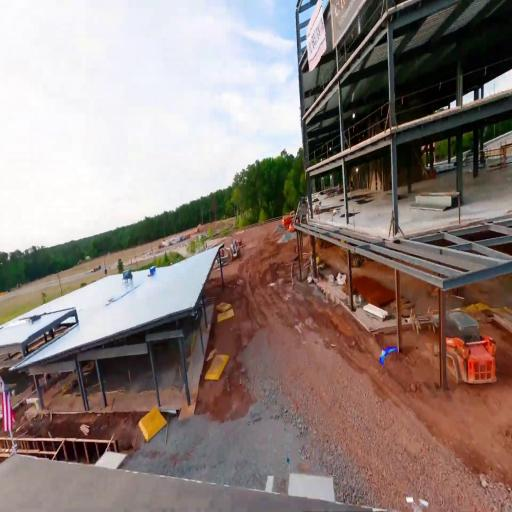uav: (377, 344, 398, 370)
